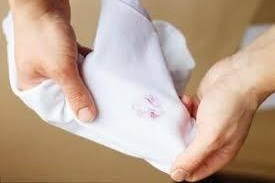lipstick: (129, 94, 162, 123)
